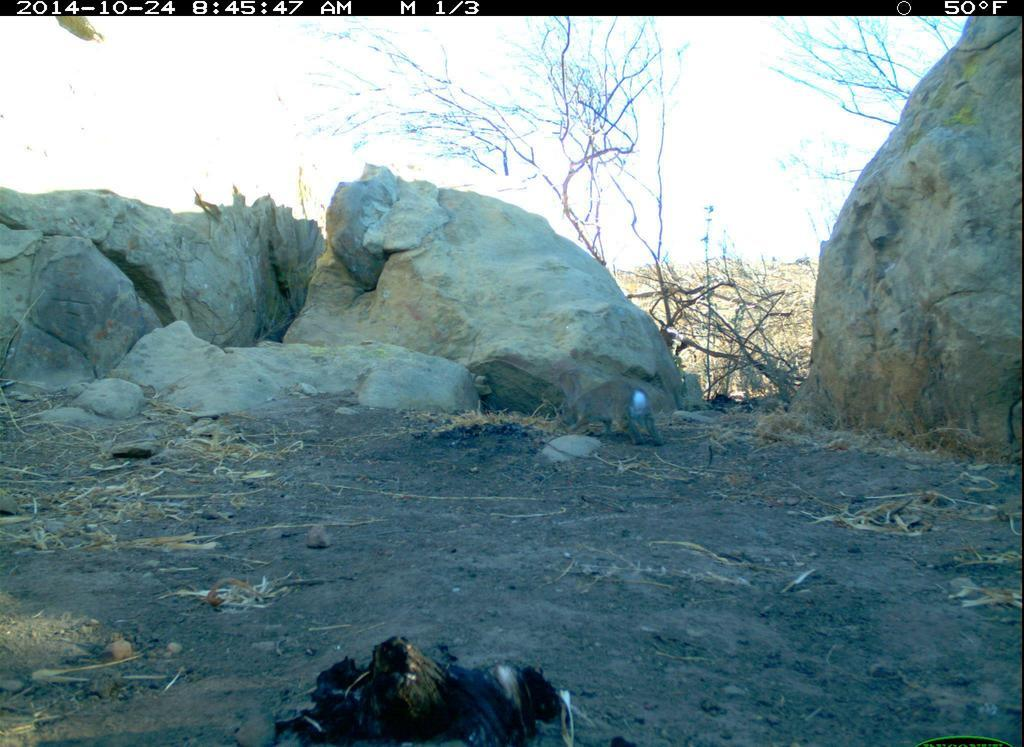rabbit: (555, 369, 667, 452)
